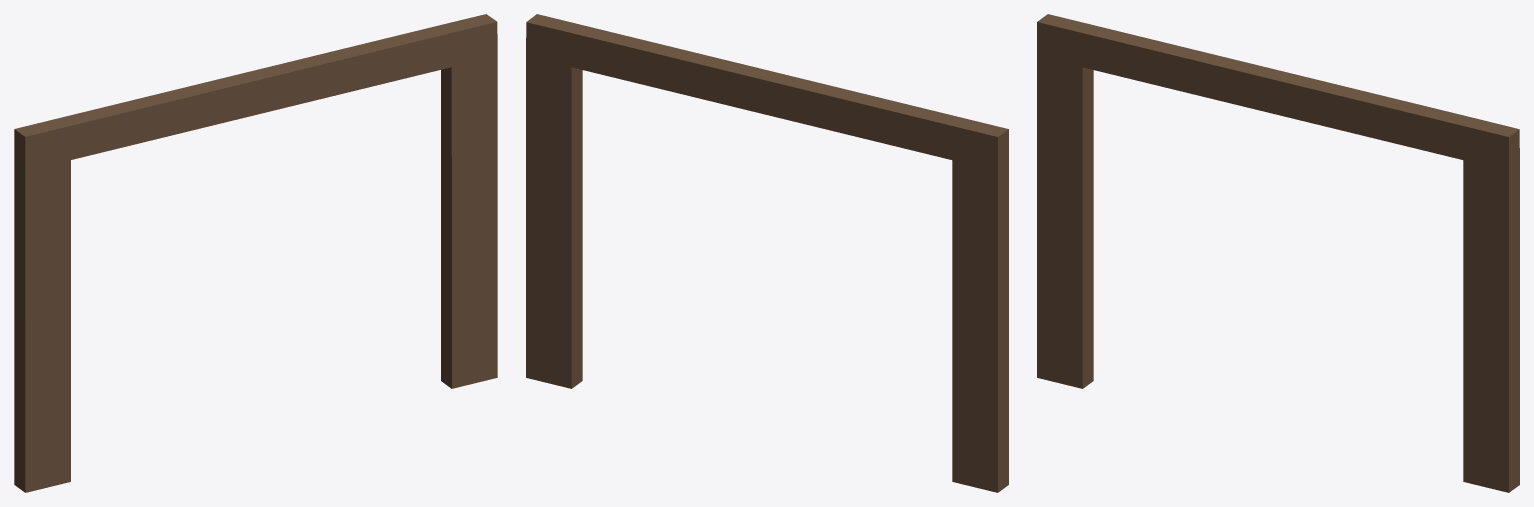
Rendered from Trave 3.fbx.
The picture shows the model from 3 angles, left to right: view 1: azimuth 30°, elevation 25°; view 2: azimuth 150°, elevation 25°; view 3: azimuth 330°, elevation 25°; orthographic projection.
Parts seen in each view (by area): view 1: Colonna liscia.004; view 2: Colonna liscia.004; view 3: Colonna liscia.004.
Part boxes in pixels (x1,y1,x2,y2): Colonna liscia.004: [14, 14, 497, 492]; Colonna liscia.004: [526, 14, 1008, 492]; Colonna liscia.004: [1037, 14, 1519, 492].
Size of the model in its own units: 926 by 667 by 37.43.
